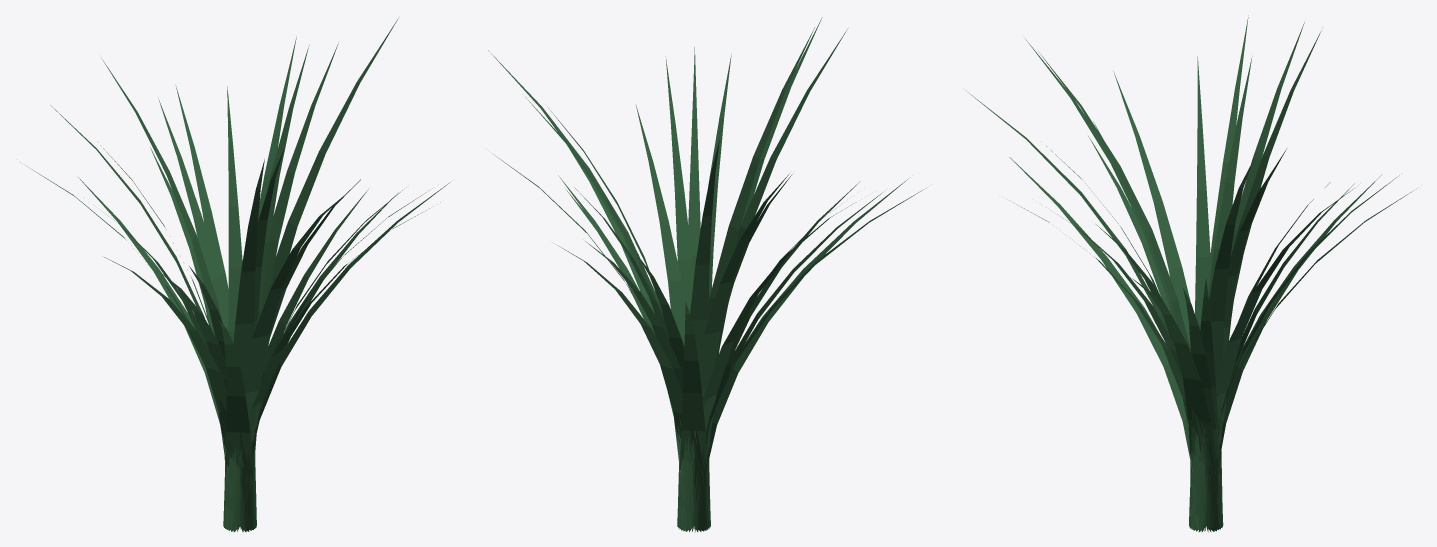
The model's file is ophiopogon-japonicus.glb.
3 views of the same model, side by side, from view 1: azimuth 30°, elevation 25°; view 2: azimuth 150°, elevation 25°; view 3: azimuth 270°, elevation 25° (orthographic).
Visible parts, largest first — view 1: Mondo grass curved blades; view 2: Mondo grass curved blades; view 3: Mondo grass curved blades.
Part boxes in pixels (box(x1,y1,x2,y2)): Mondo grass curved blades: box(20, 18, 450, 531); Mondo grass curved blades: box(488, 17, 925, 532); Mondo grass curved blades: box(966, 15, 1413, 532).
Size of the model in its own units: 0.2393 by 0.264 by 0.241.
